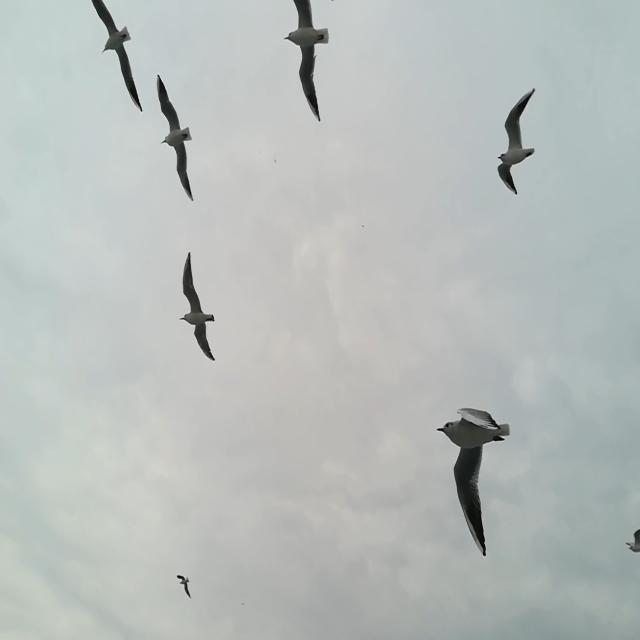bird: (434, 406, 512, 556), (281, 0, 331, 121), (89, 0, 142, 111), (157, 73, 195, 201), (178, 253, 218, 361), (496, 90, 537, 195), (175, 572, 194, 600), (625, 530, 640, 557)
